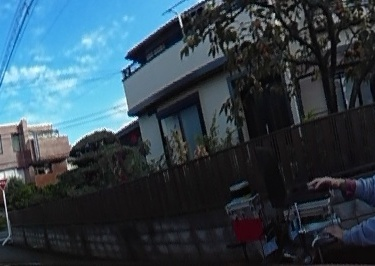person: (326, 57, 375, 266)
